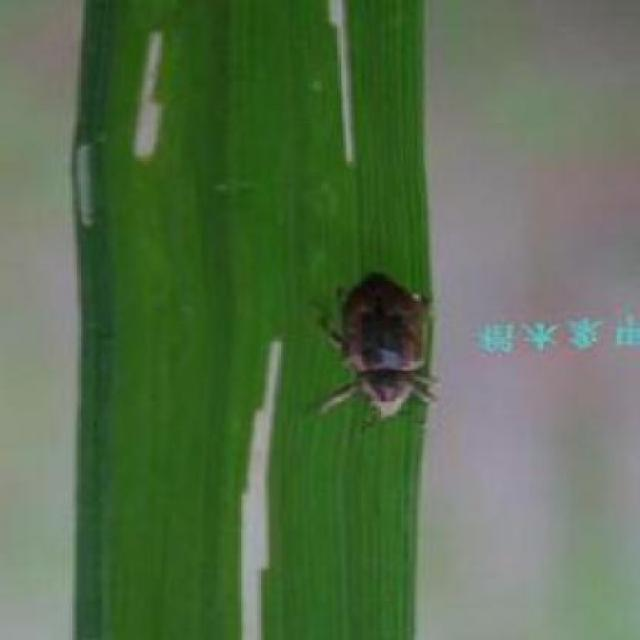rice-bug: (308, 268, 454, 424)
